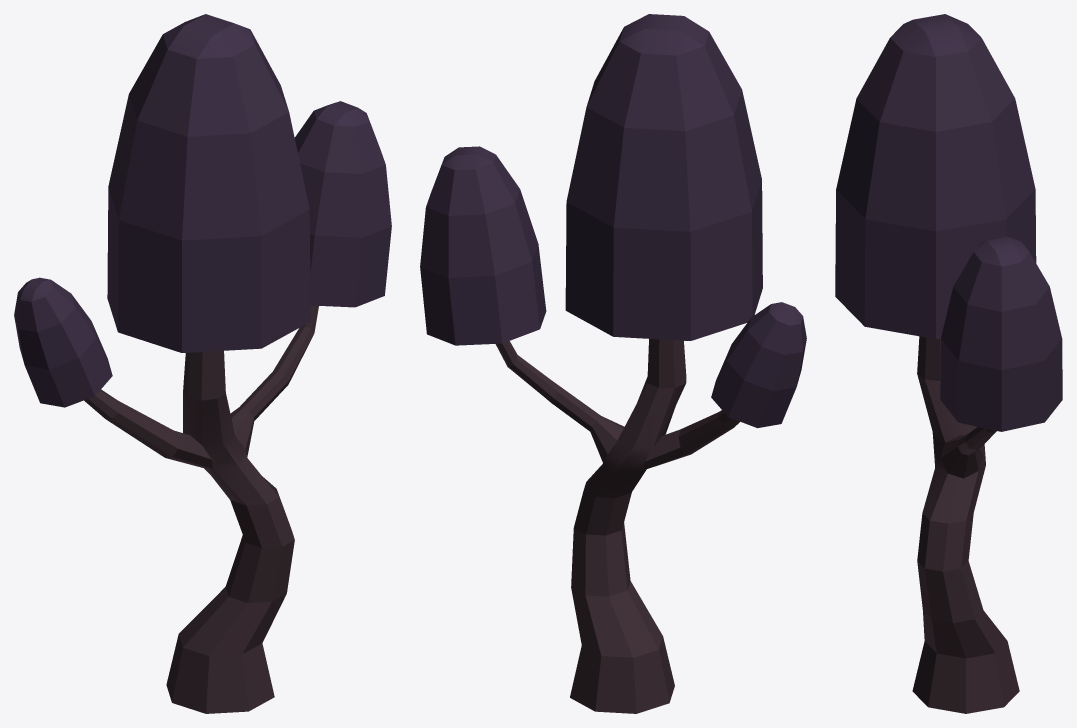
The model's file is Arbol1.fbx.
3 renders of one model, left to right at view 1: azimuth 30°, elevation 25°; view 2: azimuth 150°, elevation 25°; view 3: azimuth 270°, elevation 25°, orthographic. The views are drawn at different scales.
Visible parts, largest first — view 1: pSphere4; view 2: pSphere4; view 3: pSphere4.
Part boxes in pixels (bbox=[...]): pSphere4: bbox=[14, 14, 391, 713]; pSphere4: bbox=[420, 14, 806, 713]; pSphere4: bbox=[835, 14, 1062, 713].
Size of the model in its own units: 2.65 by 4.59 by 1.45.
